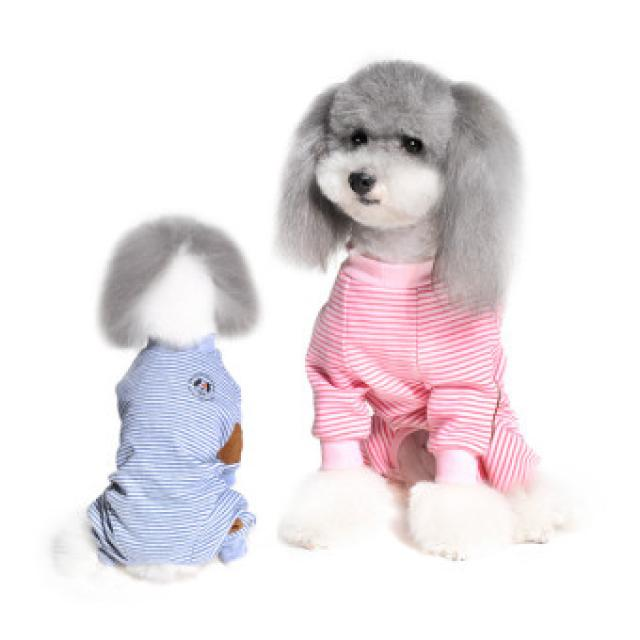cloth: (306, 254, 536, 489), (88, 335, 255, 564)
